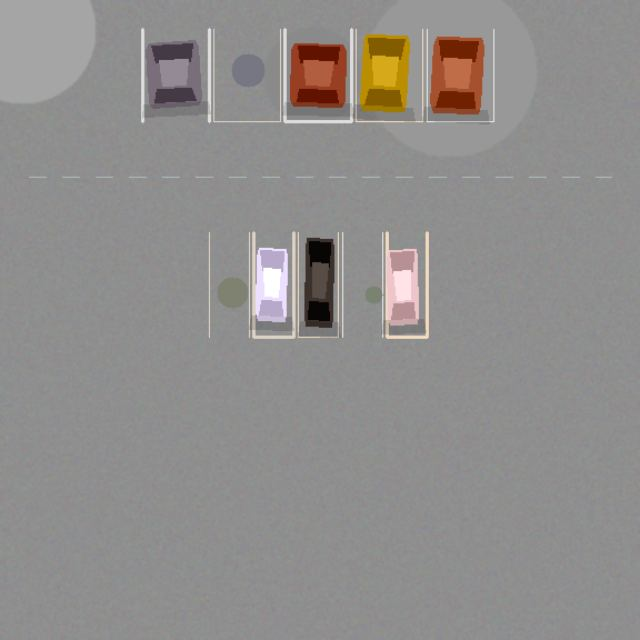space-empty: (213, 29, 280, 121), (209, 232, 249, 337), (342, 232, 382, 337)
space-occupied: (142, 29, 209, 121), (284, 29, 351, 121), (356, 29, 422, 121), (427, 29, 493, 121), (253, 232, 293, 337), (298, 232, 338, 337), (387, 232, 427, 337)
